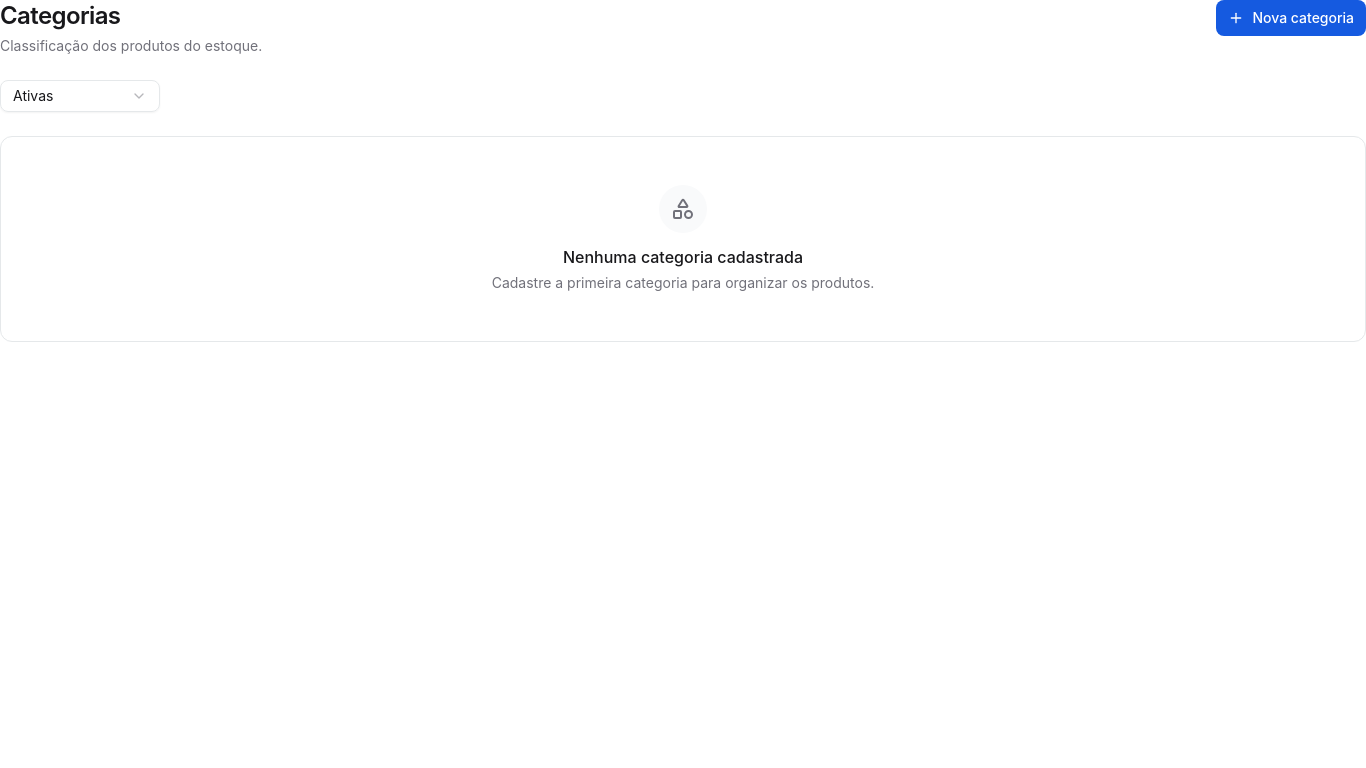
Test: CategoriesPage › criação › cadastra uma categoria nova e atualiza a lista
The image size is (1366, 768).
Expected: the text "Nenhuma categoria cadastrada" is shown, [563, 247, 803, 267]
Click the button "Nova categoria".
click(1291, 18)  # box [1216, 0, 1365, 36]
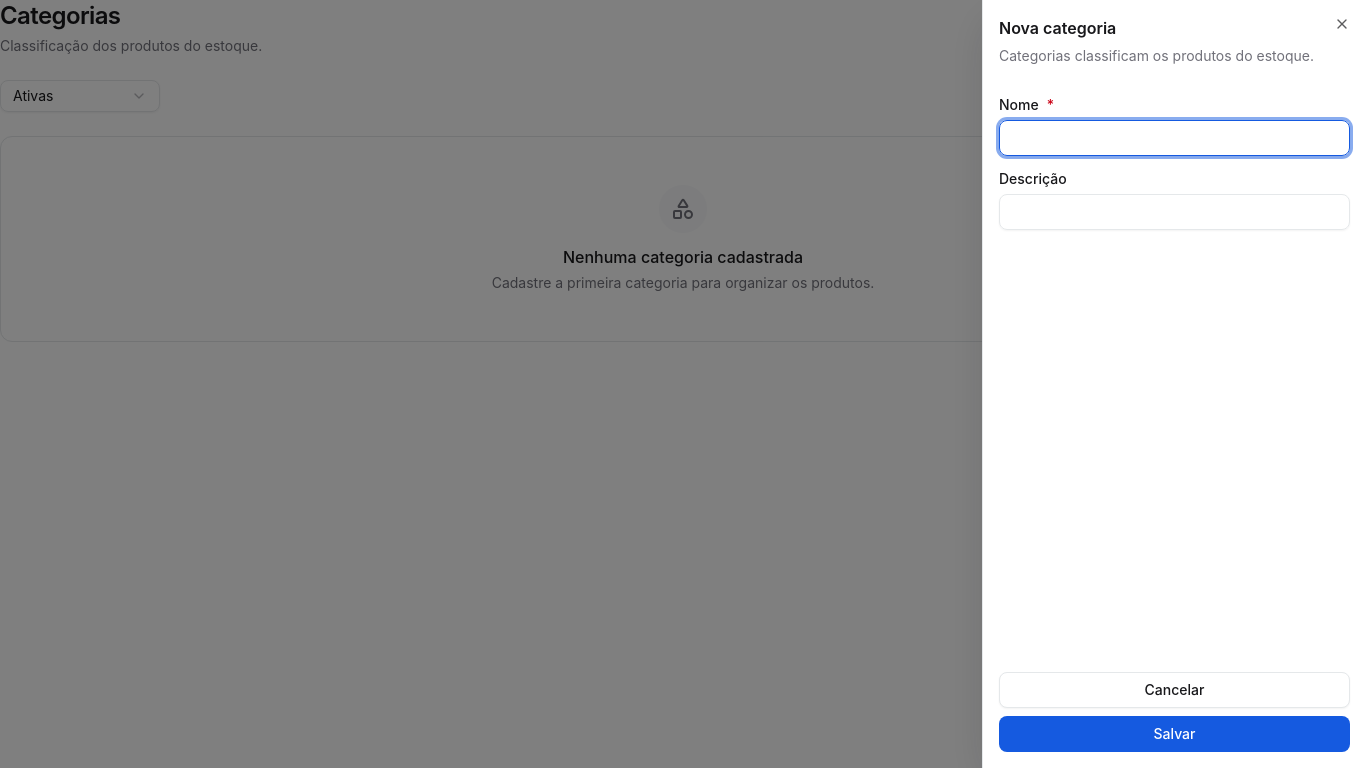
Type "Ferramentas" into the field labelled "Nome *".
click(1174, 138); type("Ferramentas")  # box [999, 120, 1350, 156]
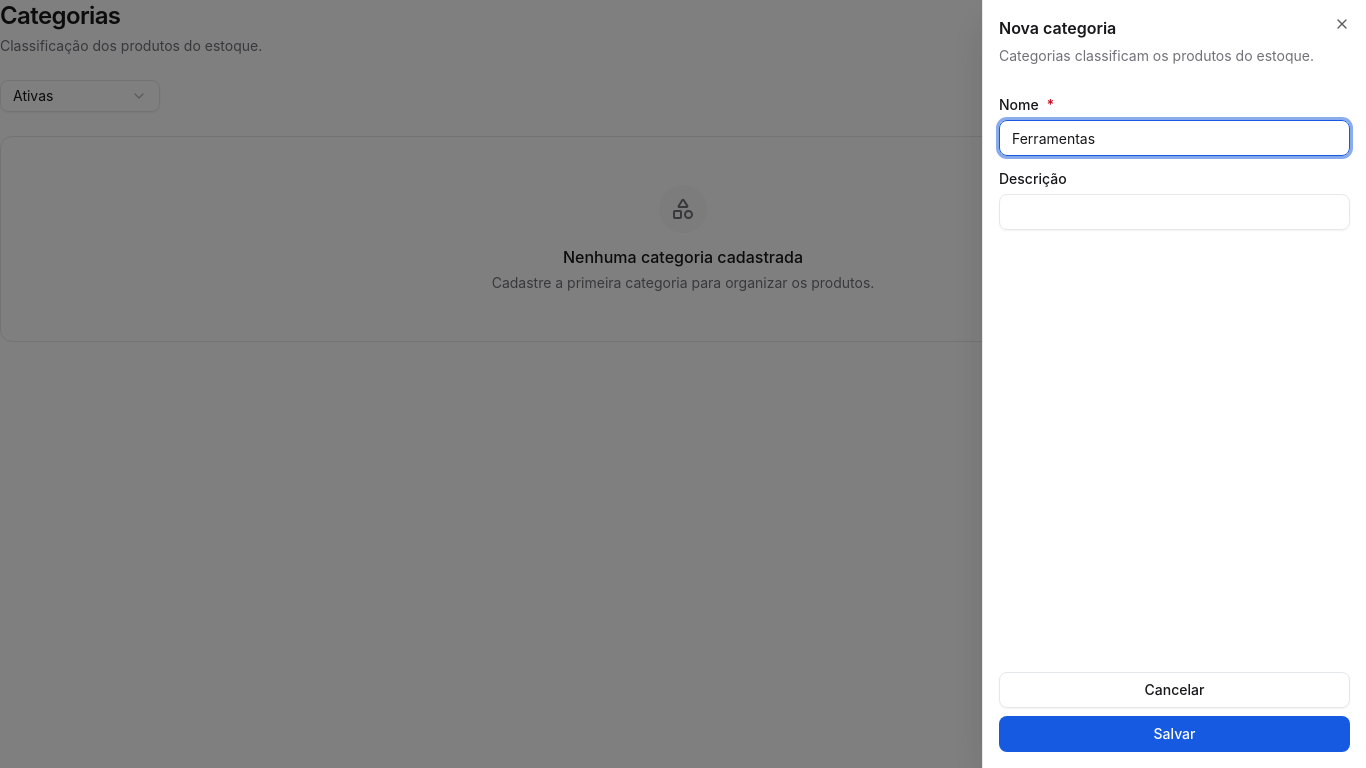
Click the button "Salvar".
click(1174, 734)  # box [999, 716, 1350, 752]
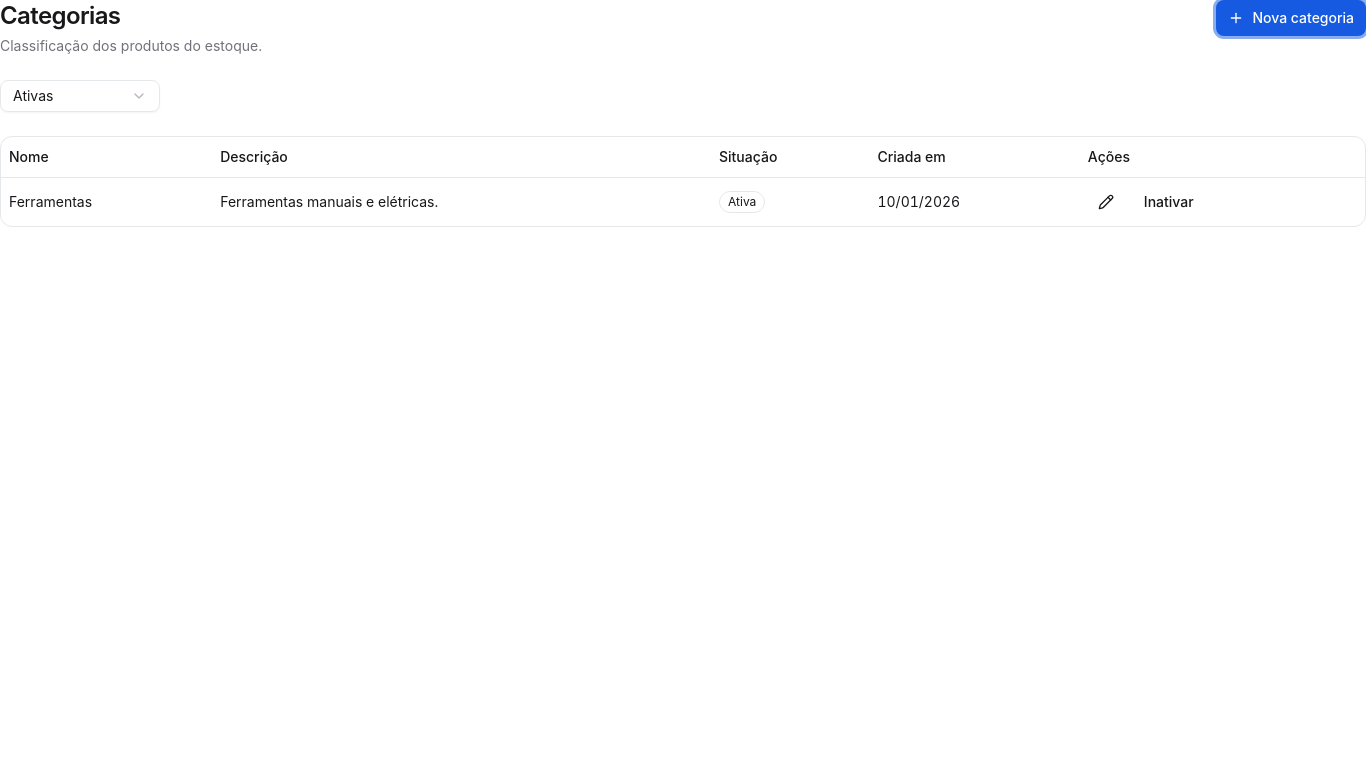
Now the dialog is gone
Now the text "Ferramentas" is shown, box [1, 178, 212, 226]
